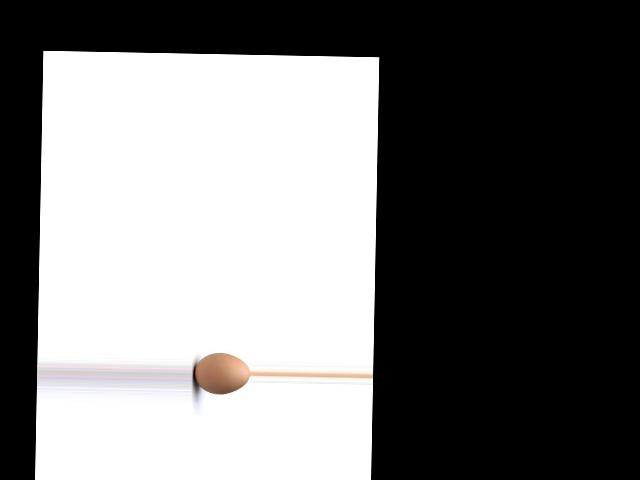egg: (193, 352, 249, 394)
